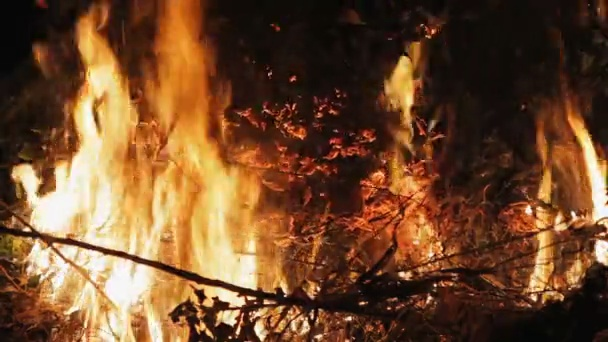fire: (13, 1, 272, 342), (382, 59, 434, 263), (568, 111, 608, 262), (523, 171, 557, 306)
